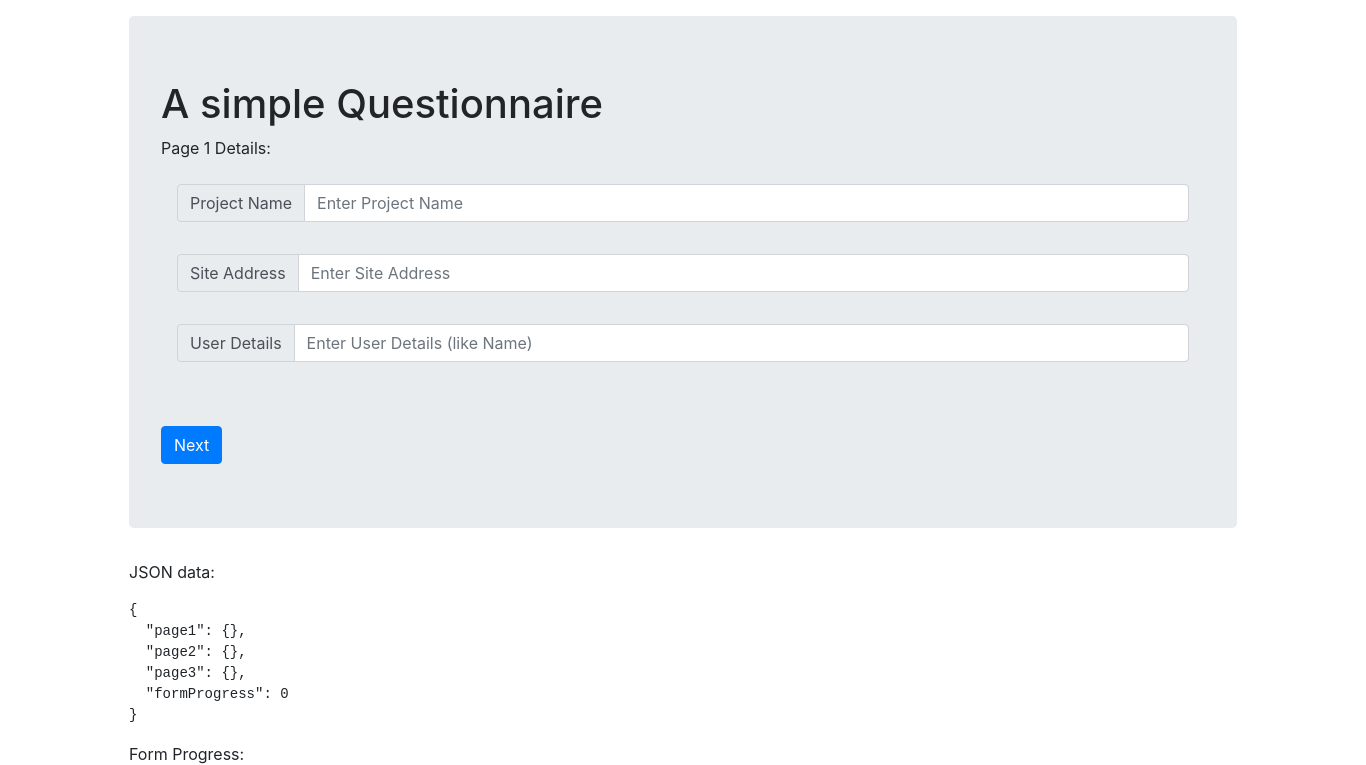
Test case: Step1 › Form Submit with Incomplete Values - With Site Address - Too short
This screenshot has width=1366, height=765.
Expected: the form is shown, [161,136,1205,464]
Type "1" into the field named "site_address" at (744, 273), box [298,254,1189,292]
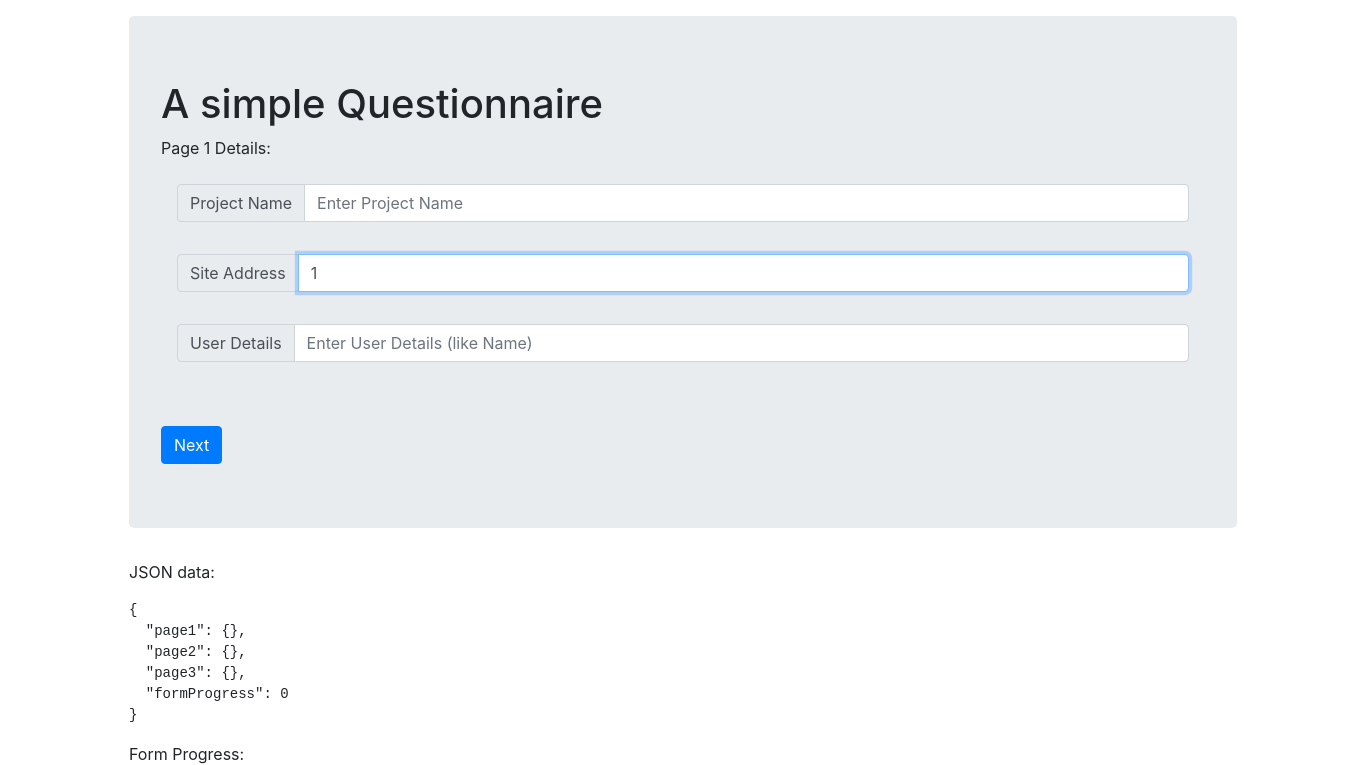
Click the submit button at (192, 445), box [161,426,222,464]
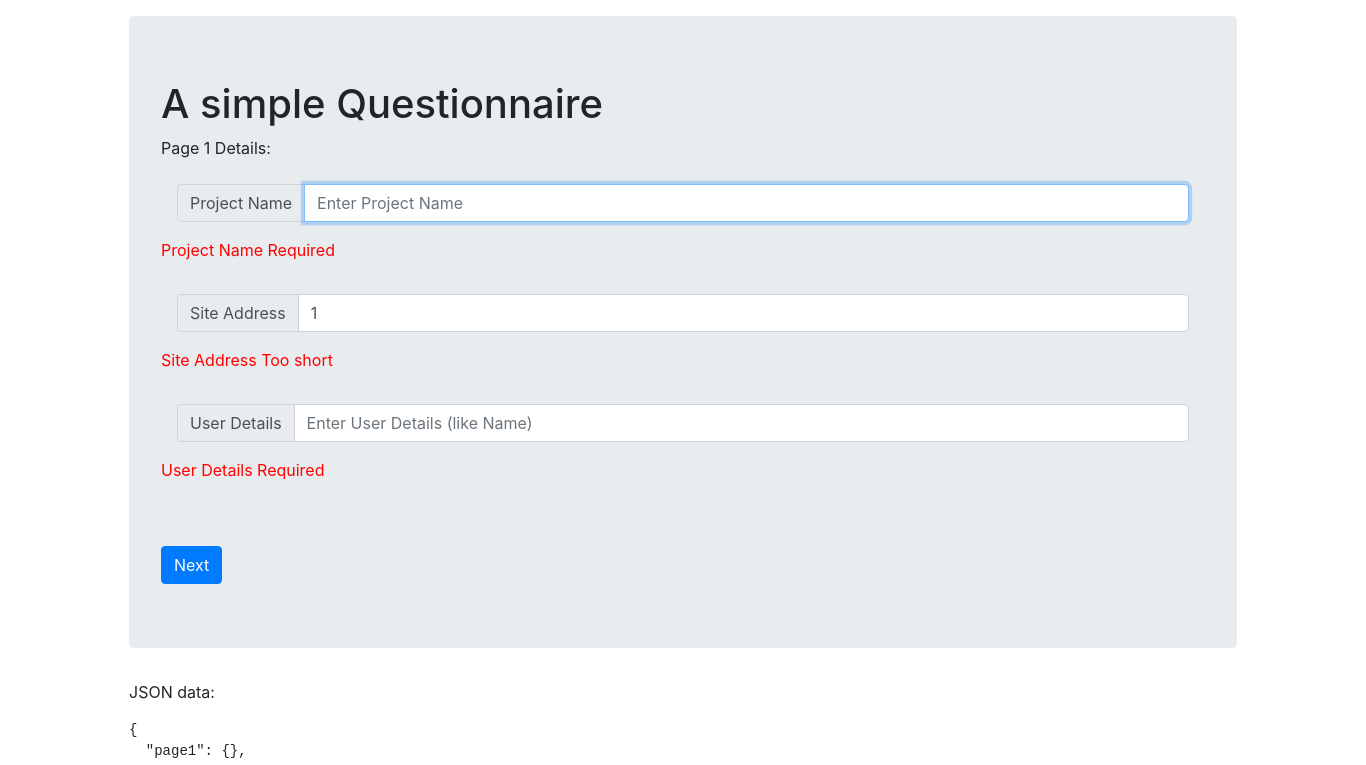
Result: the text with class "site_address" reads "Site Address Too short" at [161,350,333,370]
Result: the text "Project Name Required" is shown at [161,240,335,260]
Result: the text with class "user_details" reads "User Details Required" at [161,460,325,480]
